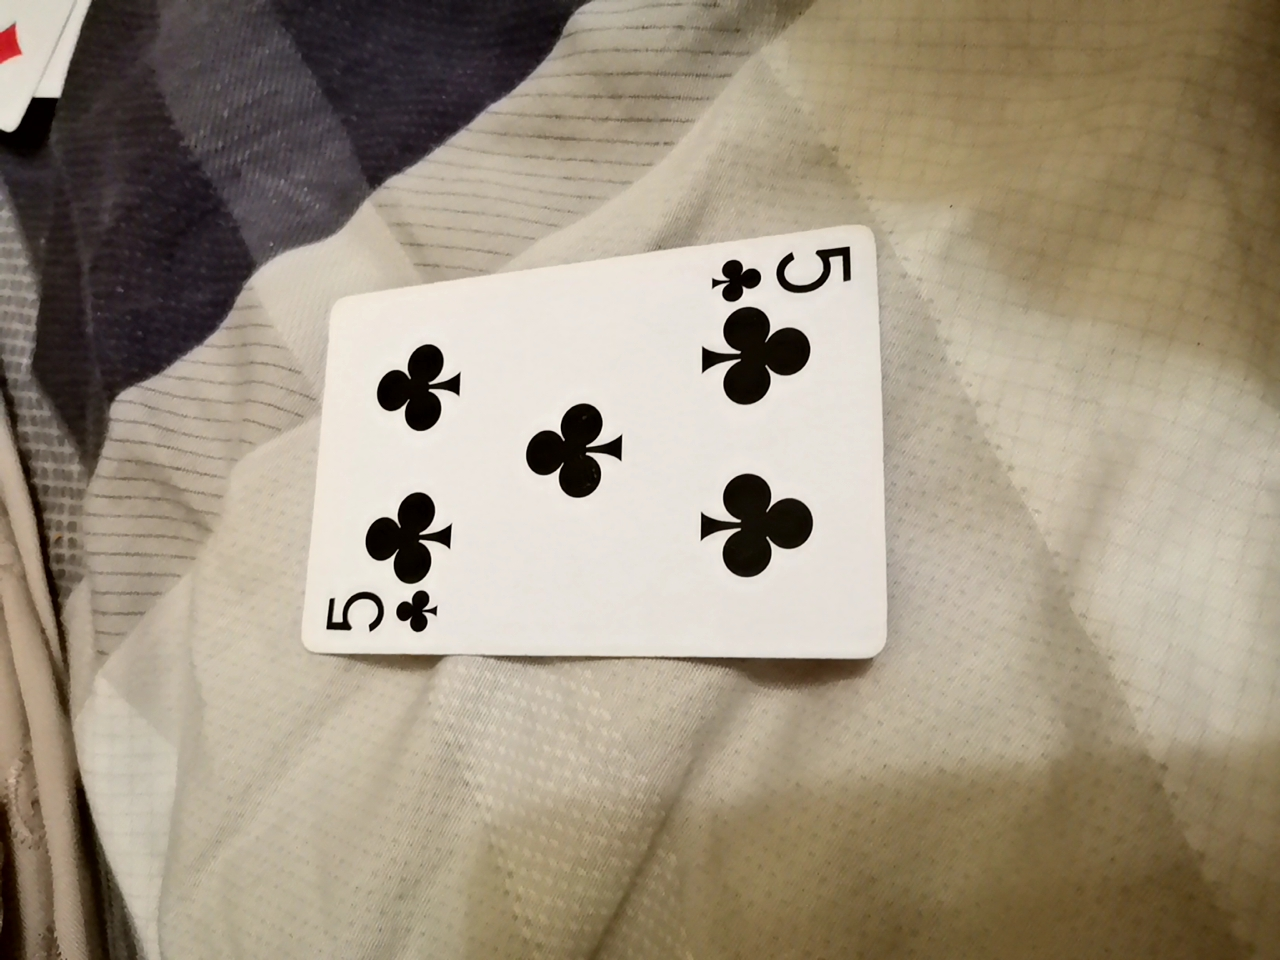mh 5: (285, 229, 877, 673)
